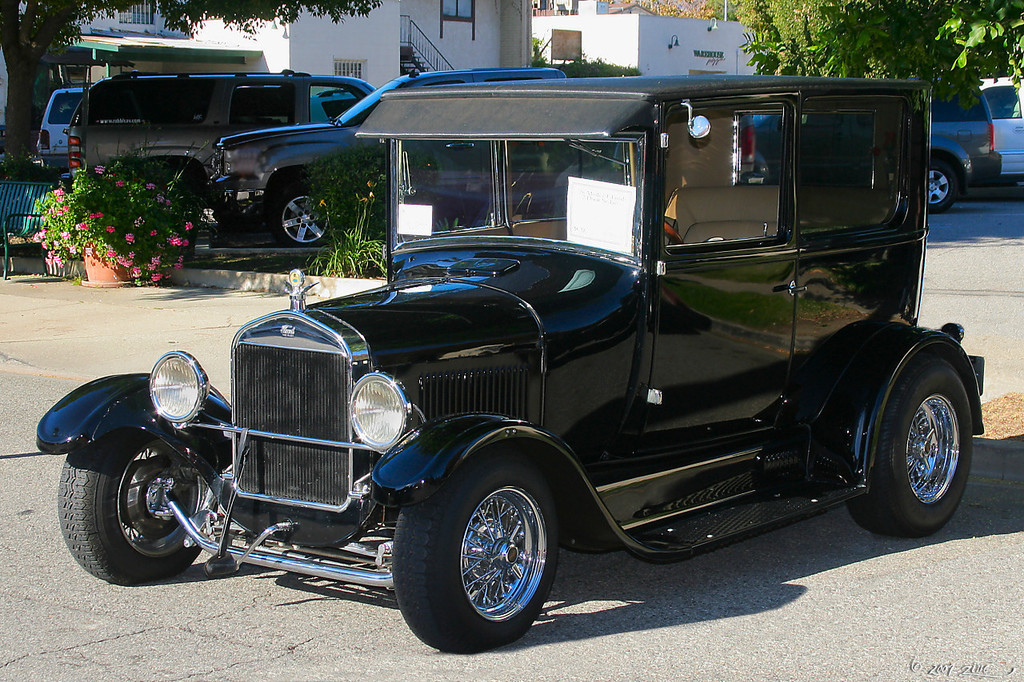Car: (29, 66, 984, 658), (206, 71, 572, 253), (60, 70, 375, 211), (752, 76, 1008, 211), (35, 76, 91, 178), (982, 67, 1023, 173)
